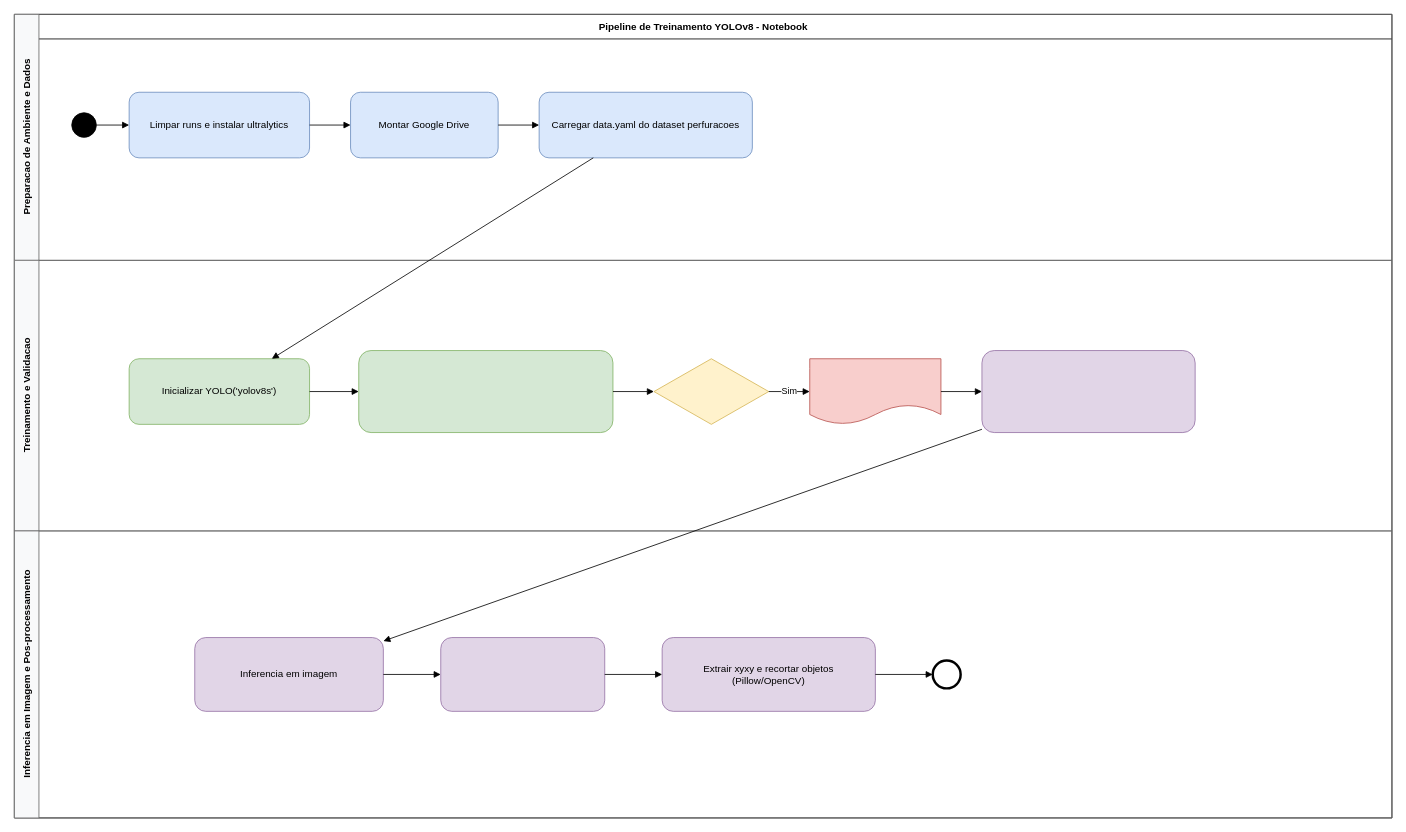
Image size: 1406x832. Some labels were removed from this diagram. Each missing label, with the centre of its shape:
Gerar best.pt: the point at 875,391
Salvar saidas (bbox, conf, crop): the point at 522,674
Treinamento concluido?: the point at 711,391
Treinar modelo epochs=100, imgsz=640, batch=-1, augmentations: the point at 485,391
Validar modelo conf=0.001, iou=0.7, split='val': the point at 1088,391
